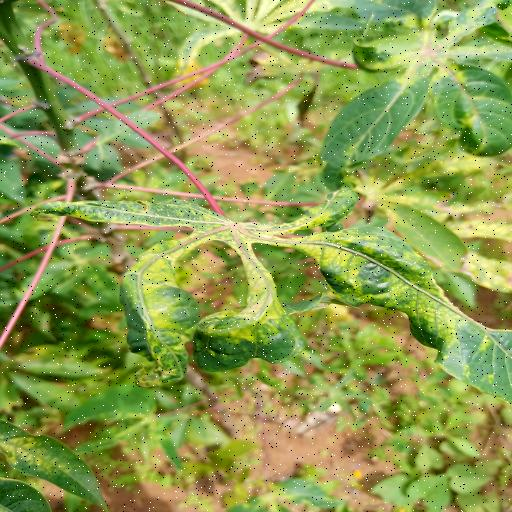Cassava_Mosaic: (24, 187, 512, 404), (276, 0, 512, 192)
